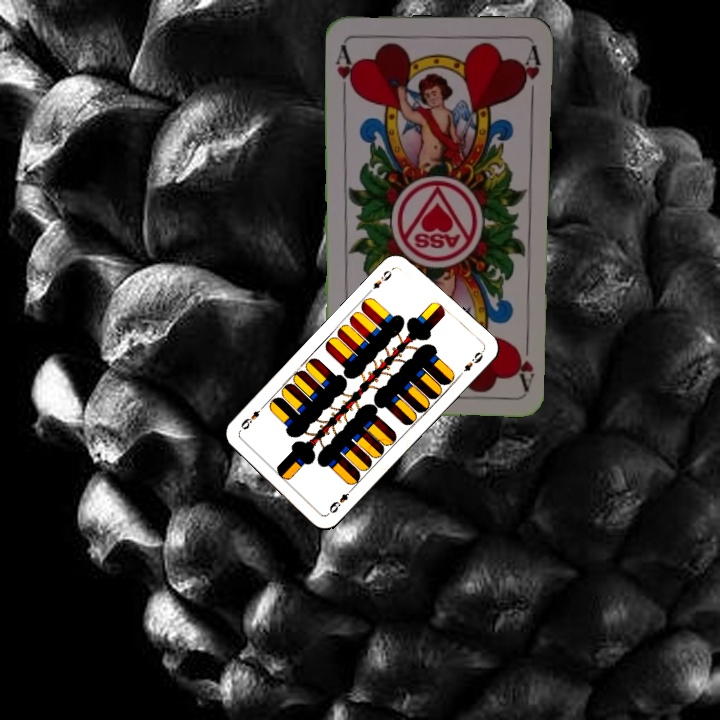E9: (365, 263, 398, 295), (325, 484, 356, 516)
HA: (332, 40, 359, 98), (513, 332, 537, 391)
